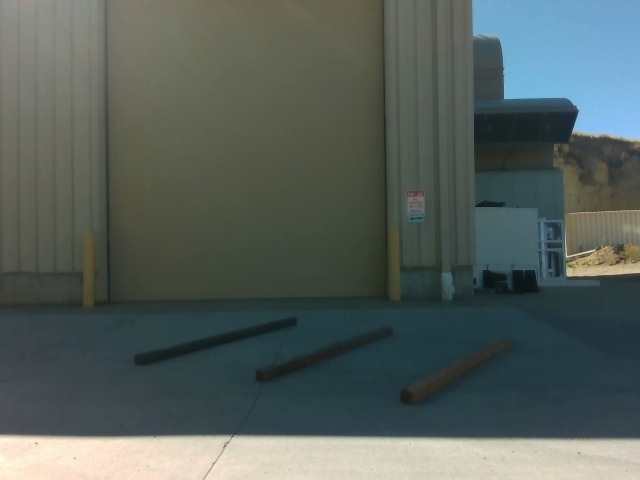dunnage: (124, 312, 529, 408)
